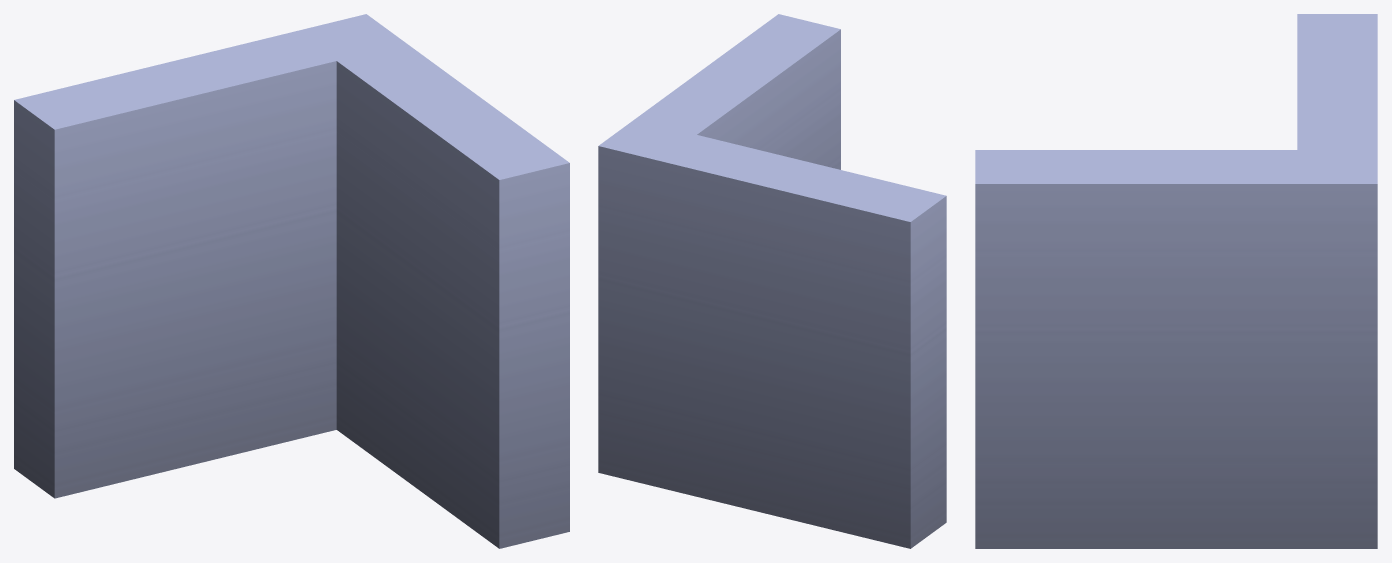
File: wall-corner.fbx
The picture shows the model from 3 angles, left to right: view 1: azimuth 30°, elevation 25°; view 2: azimuth 150°, elevation 25°; view 3: azimuth 270°, elevation 25°; orthographic projection. The views are drawn at different scales.
Visible parts, largest first — view 1: wall-corner; view 2: wall-corner; view 3: wall-corner.
Boxes of the visible parts, <box> form: wall-corner: <box>14,14,569,548</box>; wall-corner: <box>598,14,946,548</box>; wall-corner: <box>975,14,1377,548</box>.
Size of the model in its own units: 100 by 100 by 100.
